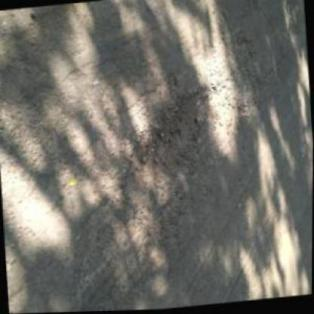Hueco: (124, 86, 218, 195)
